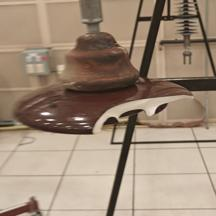insulator: (10, 28, 202, 143)
